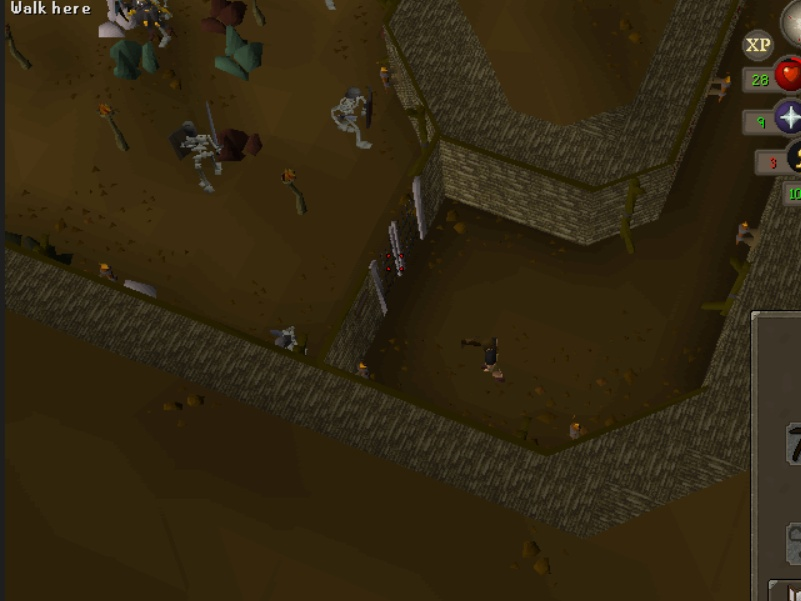adamant: (210, 23, 270, 83), (107, 36, 164, 85)
iron: (209, 125, 274, 168), (196, 1, 254, 31)
silver: (91, 1, 138, 46)
